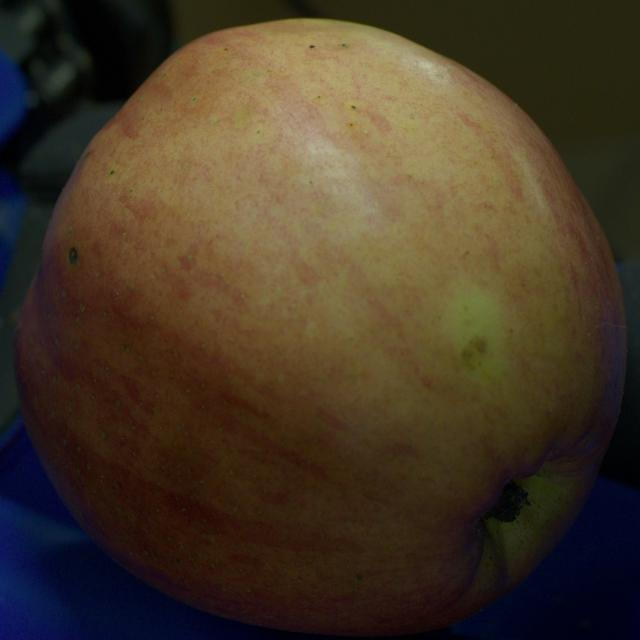apple: (15, 19, 627, 636)
pest: (69, 248, 78, 264)
